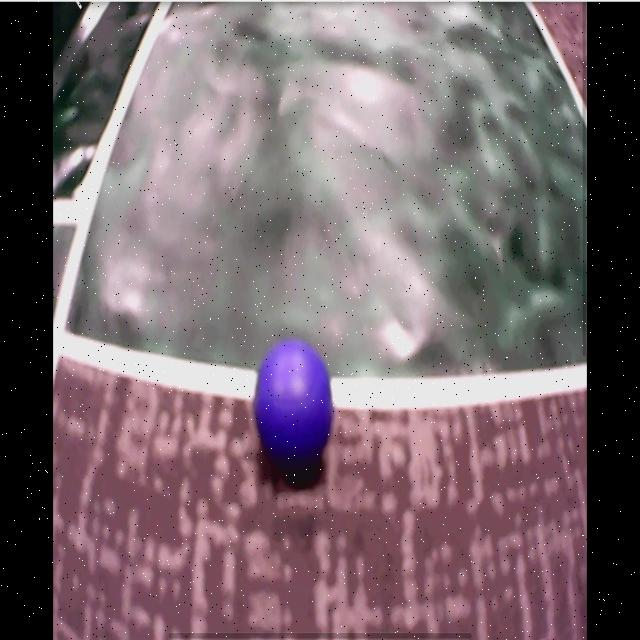ball: (254, 340, 335, 463)
